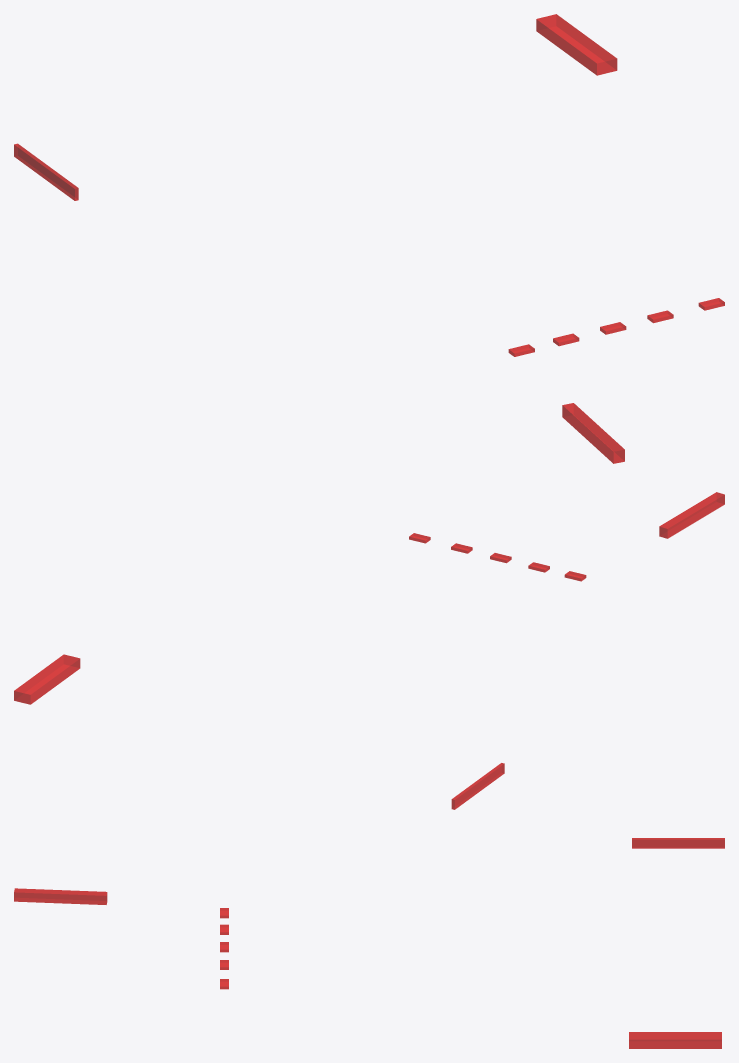
The model's file is Track2_Stadium_s.fbx.
3 renders of one model, top to bottom at view 1: azimuth 30°, elevation 25°; view 2: azimuth 150°, elevation 25°; view 3: azimuth 270°, elevation 25°, orthographic. The views are drawn at different scales.
Visible parts, largest first — view 1: polySurface1; view 2: polySurface1; view 3: polySurface1.
Boxes of the visible parts, <box> form: polySurface1: <box>14,14,724,463</box>; polySurface1: <box>14,492,724,809</box>; polySurface1: <box>14,838,724,1048</box>.
Bounding box in the file's own units: 6760 × 146 × 10082.
